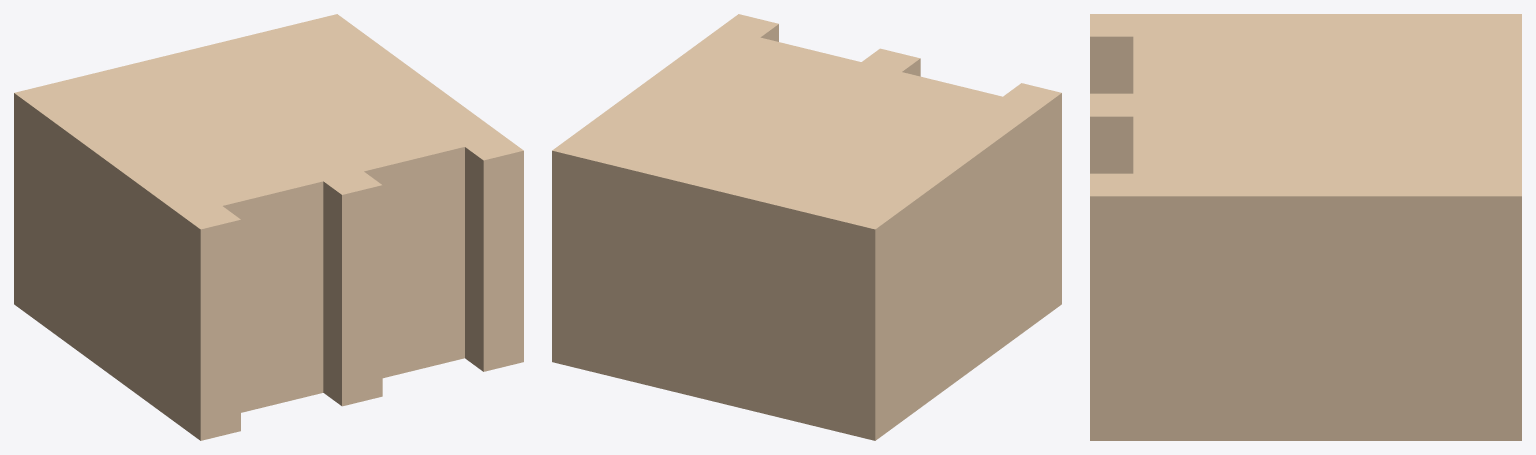
Rendered from building-windows-high-middle.obj.
3 renders of one model, left to right at view 1: azimuth 30°, elevation 25°; view 2: azimuth 150°, elevation 25°; view 3: azimuth 270°, elevation 25°, orthographic. The views are drawn at different scales.
Bounding box in the file's own units: 1 × 0.625 × 1.
